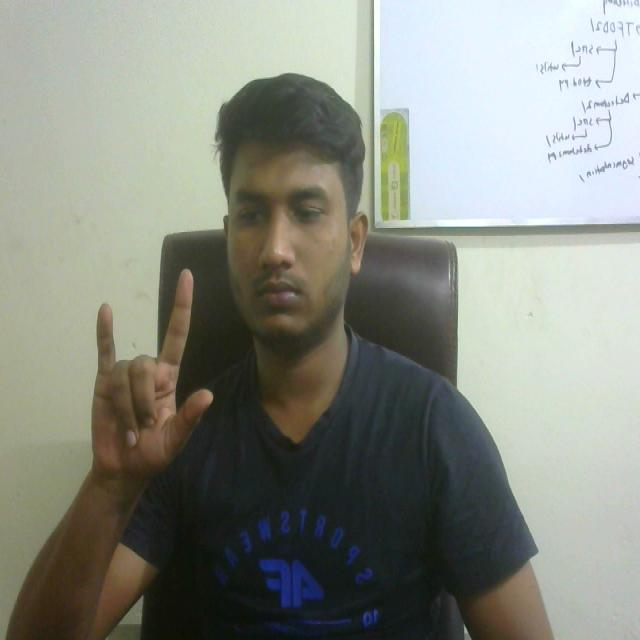B: (66, 259, 229, 497)
